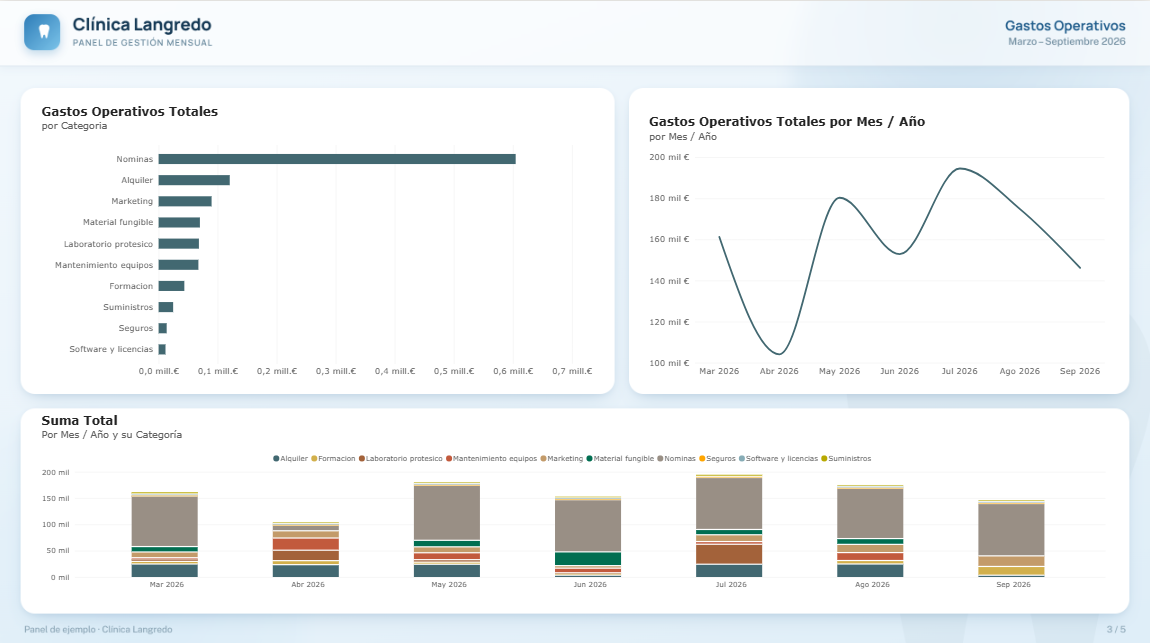

Layout of this report page (visuals, bound fields, positions):
{"tool":"powerbi","page":{"name":"Gastos Operativos","canvas":[1920,1080],"ordinal":2},"visuals":[{"type":"barChart","fields":{"Category":["gastos_operativos.Categoria"],"Y":["_Medidas.Gastos Operativos Totales"]},"box":[55,157.5,950,487.5],"z":0},{"type":"columnChart","title":"Suma Total","fields":{"Category":["Calendario.MesAño"],"Series":["gastos_operativos.Categoria"],"Y":["Sum(gastos_operativos.Importe)"]},"box":[55,672.5,1805,327.5],"z":1000},{"type":"lineChart","title":"Gastos Operativos Totales por Mes / Año","fields":{"Category":["Calendario.MesAño"],"Y":["_Medidas.Gastos Operativos Totales"]},"box":[1067.5,175,792.5,470],"z":2000}]}

Visuals, with their boxes in screenshot pixels (x1, y1, x2, y2), scaled from the page's 1920x1080 canvas onto the 1150x643 screenshot:
barChart - gastos_operativos.Categoria x _Medidas.Gastos Operativos Totales: {"x1": 33, "y1": 94, "x2": 602, "y2": 384}
"Suma Total" columnChart: {"x1": 33, "y1": 400, "x2": 1114, "y2": 595}
"Gastos Operativos Totales por Mes / Año" lineChart: {"x1": 639, "y1": 104, "x2": 1114, "y2": 384}
